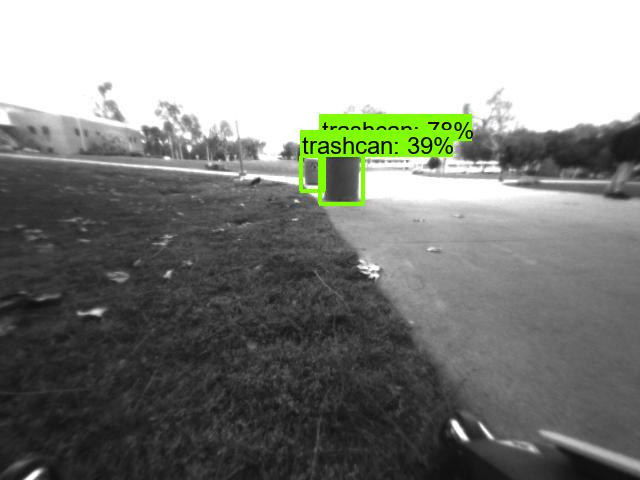trashcan: (324, 146, 361, 201), (303, 156, 326, 191)
